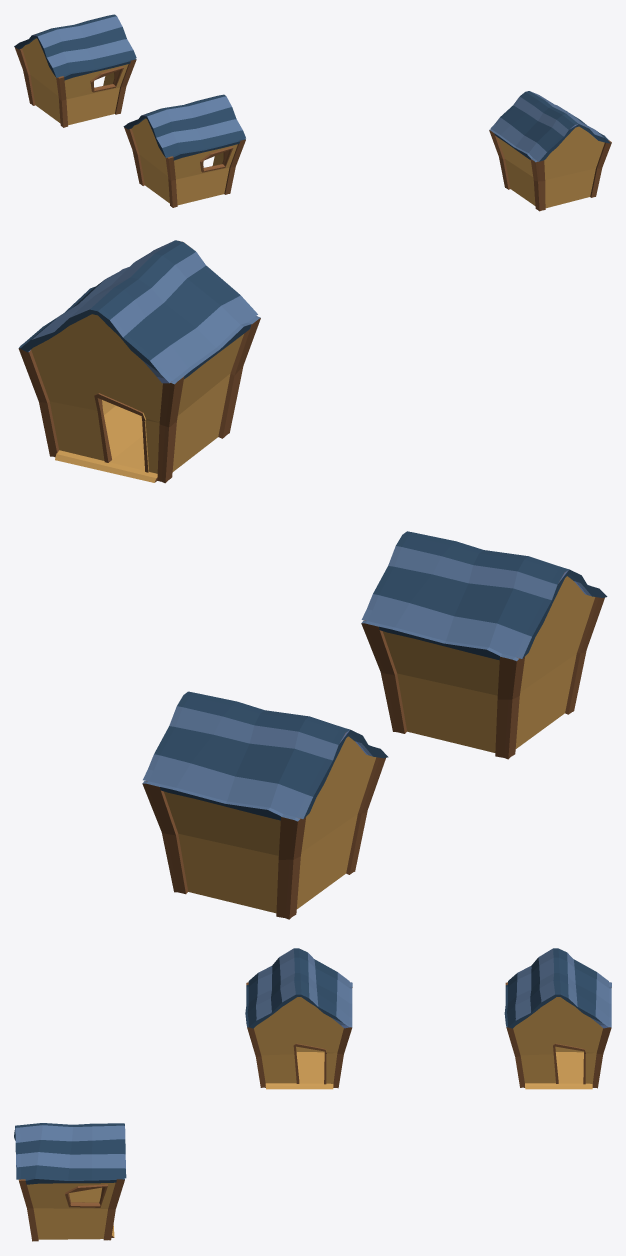
The model's file is small_house.gltf.
3 views of the same model, one above another, from view 1: azimuth 30°, elevation 25°; view 2: azimuth 150°, elevation 25°; view 3: azimuth 270°, elevation 25° (orthographic). The views are drawn at different scales.
Parts seen in each view (by area): view 1: small_house; view 2: small_house; view 3: small_house.
Part boxes in pixels (<box>): small_house: <box>14,14,611,211</box>; small_house: <box>18,240,607,919</box>; small_house: <box>14,948,611,1241</box>.
Size of the model in its own units: 2.34 by 0.5656 by 2.94.
1 material, 1 textured.
